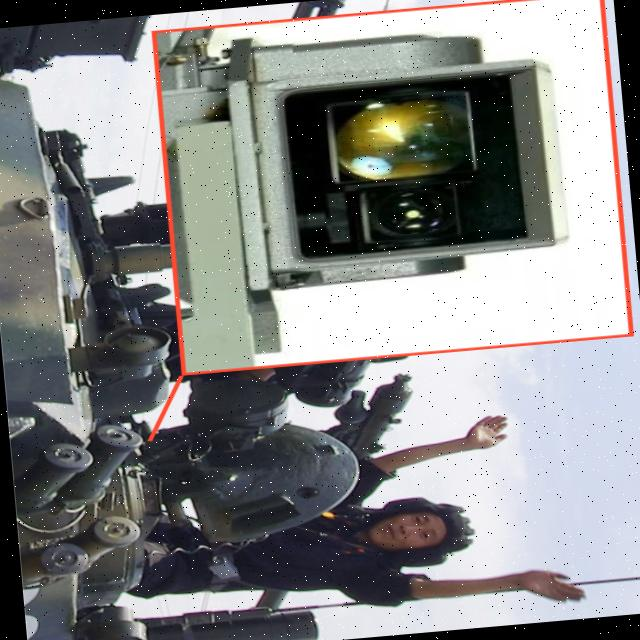north tank: (0, 16, 203, 640)
